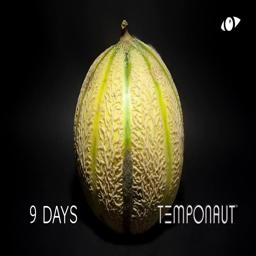Melon Ripe: (69, 17, 187, 227)
